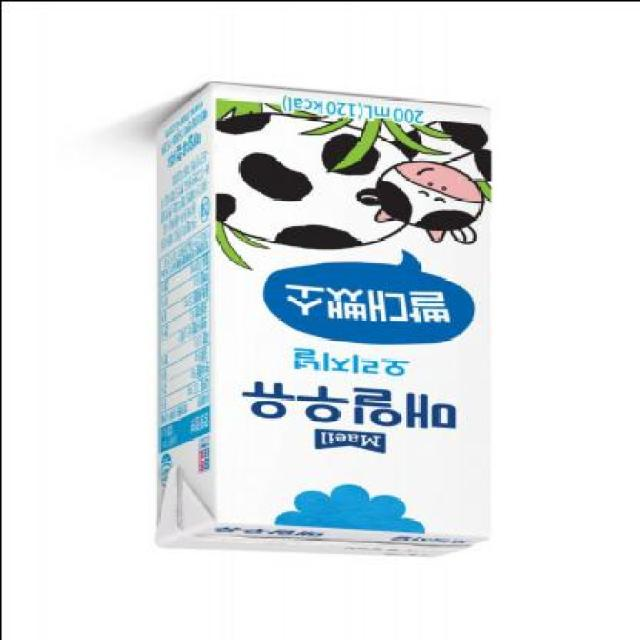tetra: (126, 73, 511, 581)
